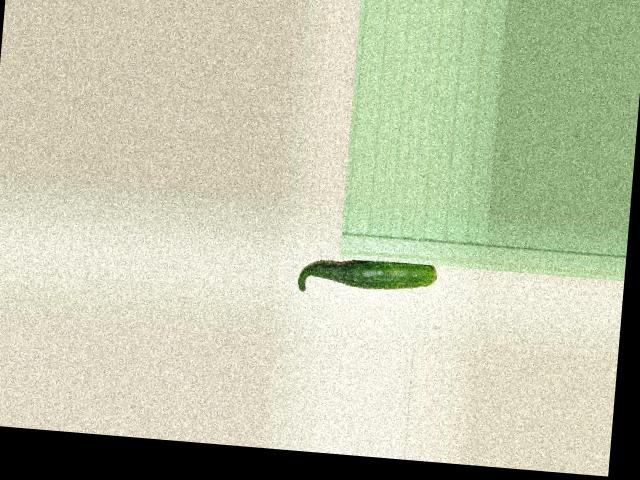cucumber: (296, 254, 437, 301)
